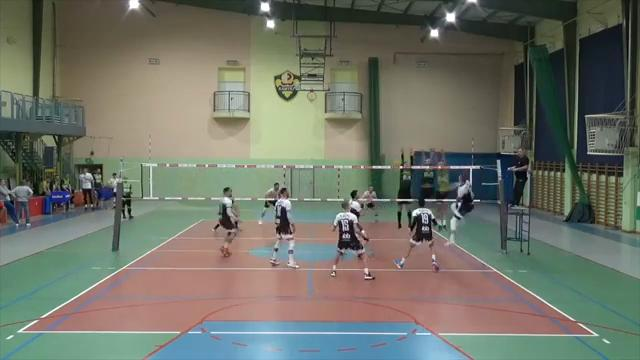Attack: (439, 170, 477, 248)
Block: (393, 144, 416, 229), (429, 144, 449, 230), (418, 145, 434, 225)
Player: (331, 201, 374, 279), (394, 199, 439, 271), (270, 187, 298, 268), (219, 187, 237, 256), (259, 182, 279, 224), (362, 185, 377, 220), (349, 190, 362, 218), (231, 197, 240, 230)
ball: (391, 160, 401, 169)
